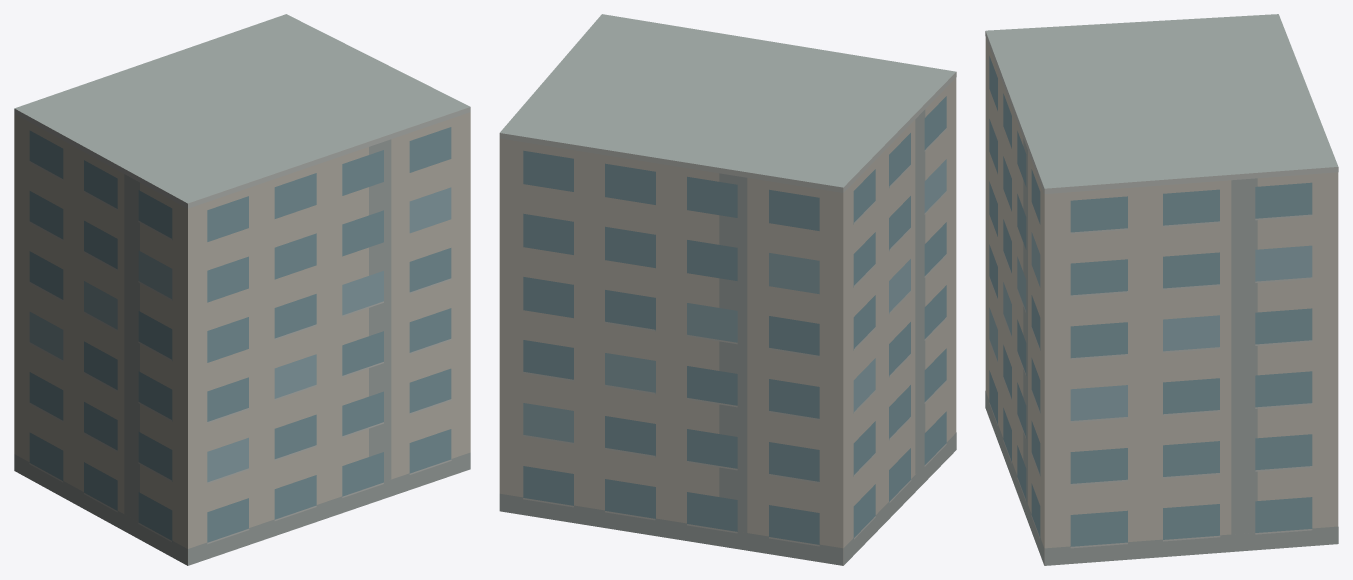
The model's file is survey-upis-32576760.glb.
3 renders of one model, left to right at view 1: azimuth 30°, elevation 25°; view 2: azimuth 150°, elevation 25°; view 3: azimuth 270°, elevation 25°, orthographic. The views are drawn at different scales.
Visible parts, largest first — view 1: survey-upis-32576760.tmp; view 2: survey-upis-32576760.tmp; view 3: survey-upis-32576760.tmp.
Part boxes in pixels (left/top/right/bottom): survey-upis-32576760.tmp: left=14, top=14, right=470, bottom=565; survey-upis-32576760.tmp: left=499, top=14, right=956, bottom=565; survey-upis-32576760.tmp: left=985, top=14, right=1338, bottom=565.
Size of the model in its own units: 16.69 by 16.8 by 14.26.
